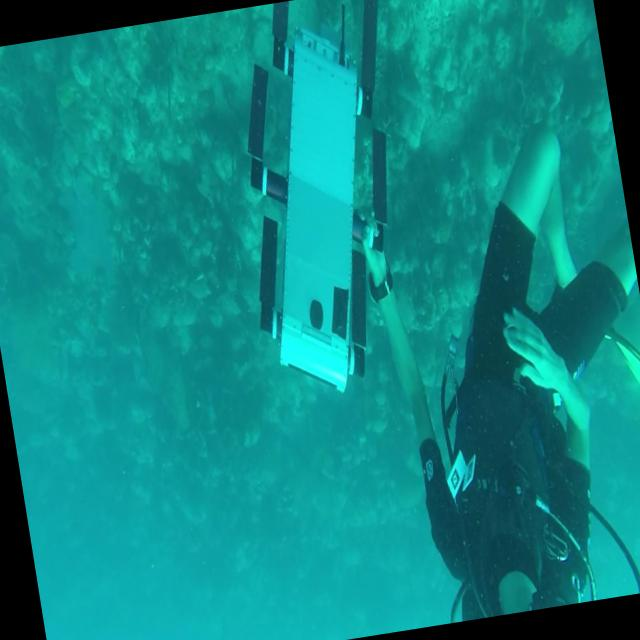human: (343, 109, 640, 628)
